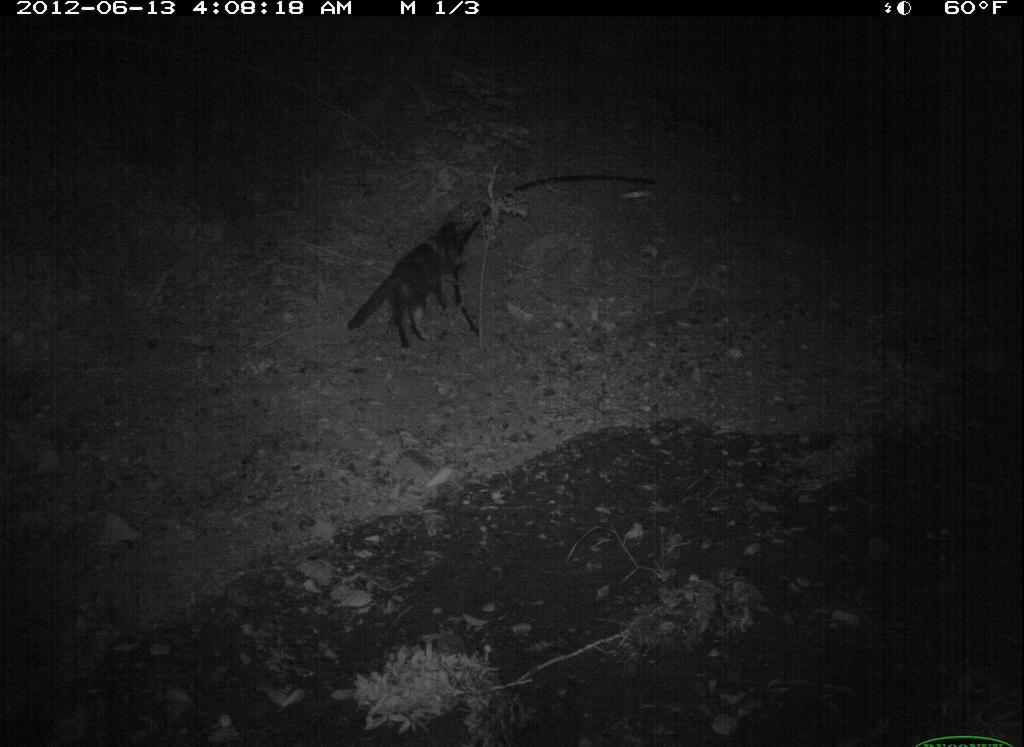cat: (347, 184, 495, 368)
